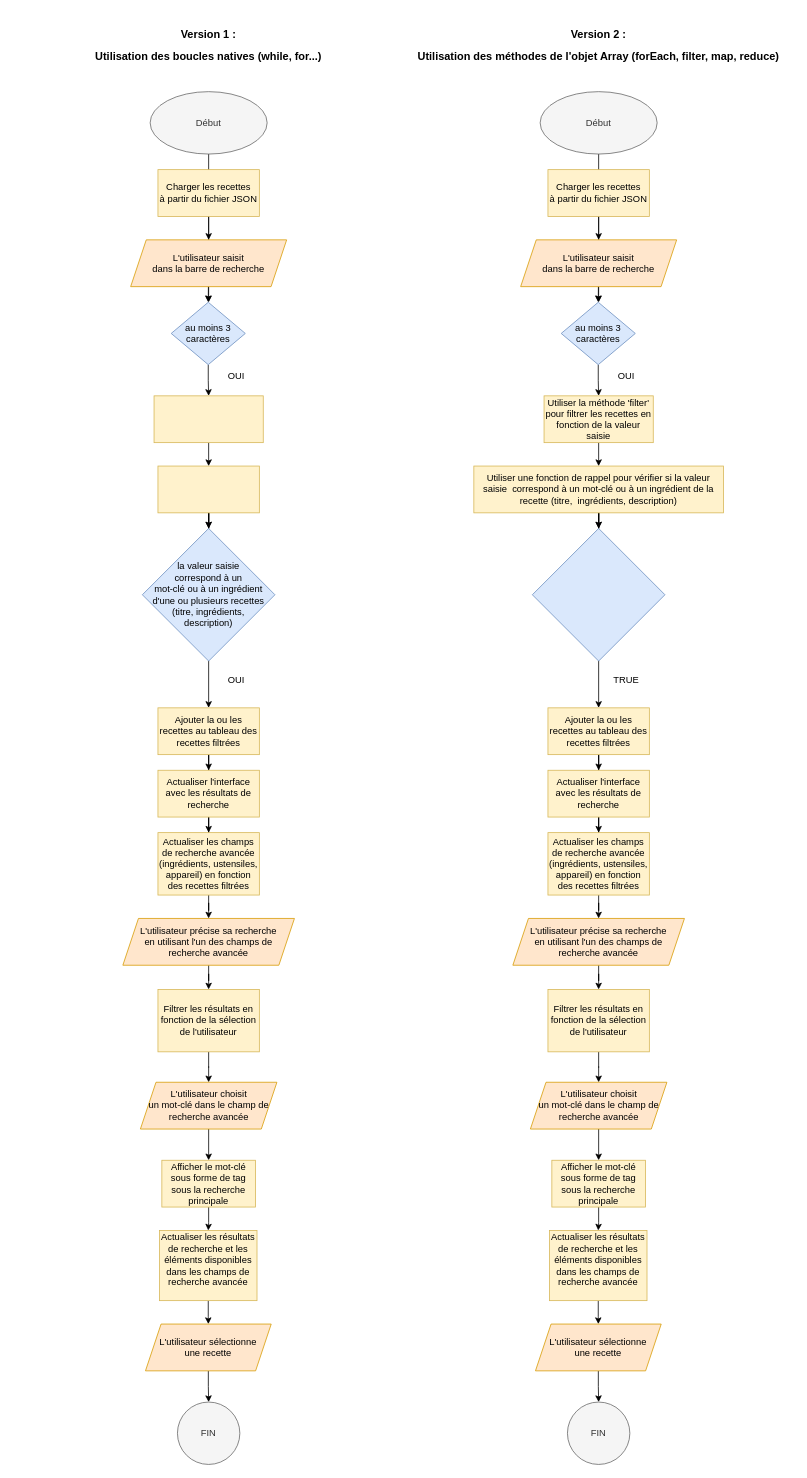
Some shapes in this 807 by 1478 pixel diagram are drawn without their labels. The centre of each missing label's shape, as x and y in pixels:
Initialiser un tableau vide pour les recettes filtrées: the point at 208,419
La fonction de rappel renvoie 'true' ou 'false': the point at 598,594
Récupérer la valeur saisie par l'utilisateur dans la barre de recherche: the point at 208,489
